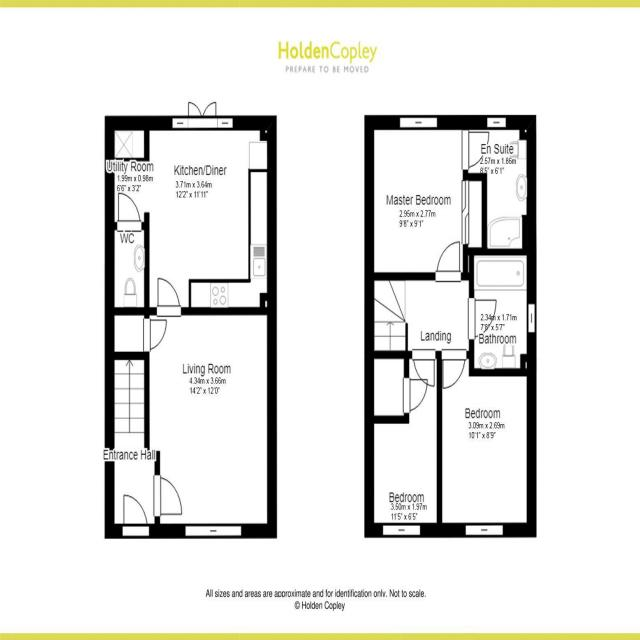DOOR: (152, 474, 186, 519), (466, 297, 499, 342), (121, 491, 150, 541), (460, 131, 492, 171), (155, 273, 182, 318), (435, 238, 462, 283), (116, 187, 141, 234), (442, 347, 467, 393), (401, 376, 430, 414), (411, 347, 436, 390), (141, 318, 168, 353)
DOUBLE DOOR: (186, 98, 218, 117)
ROOM: (142, 305, 278, 541), (142, 98, 278, 317), (364, 114, 487, 282), (435, 349, 538, 538), (364, 350, 443, 539)
WINDOW: (183, 522, 243, 542), (382, 520, 421, 540), (464, 521, 505, 540), (398, 113, 439, 132), (486, 113, 507, 131), (526, 302, 538, 333)
